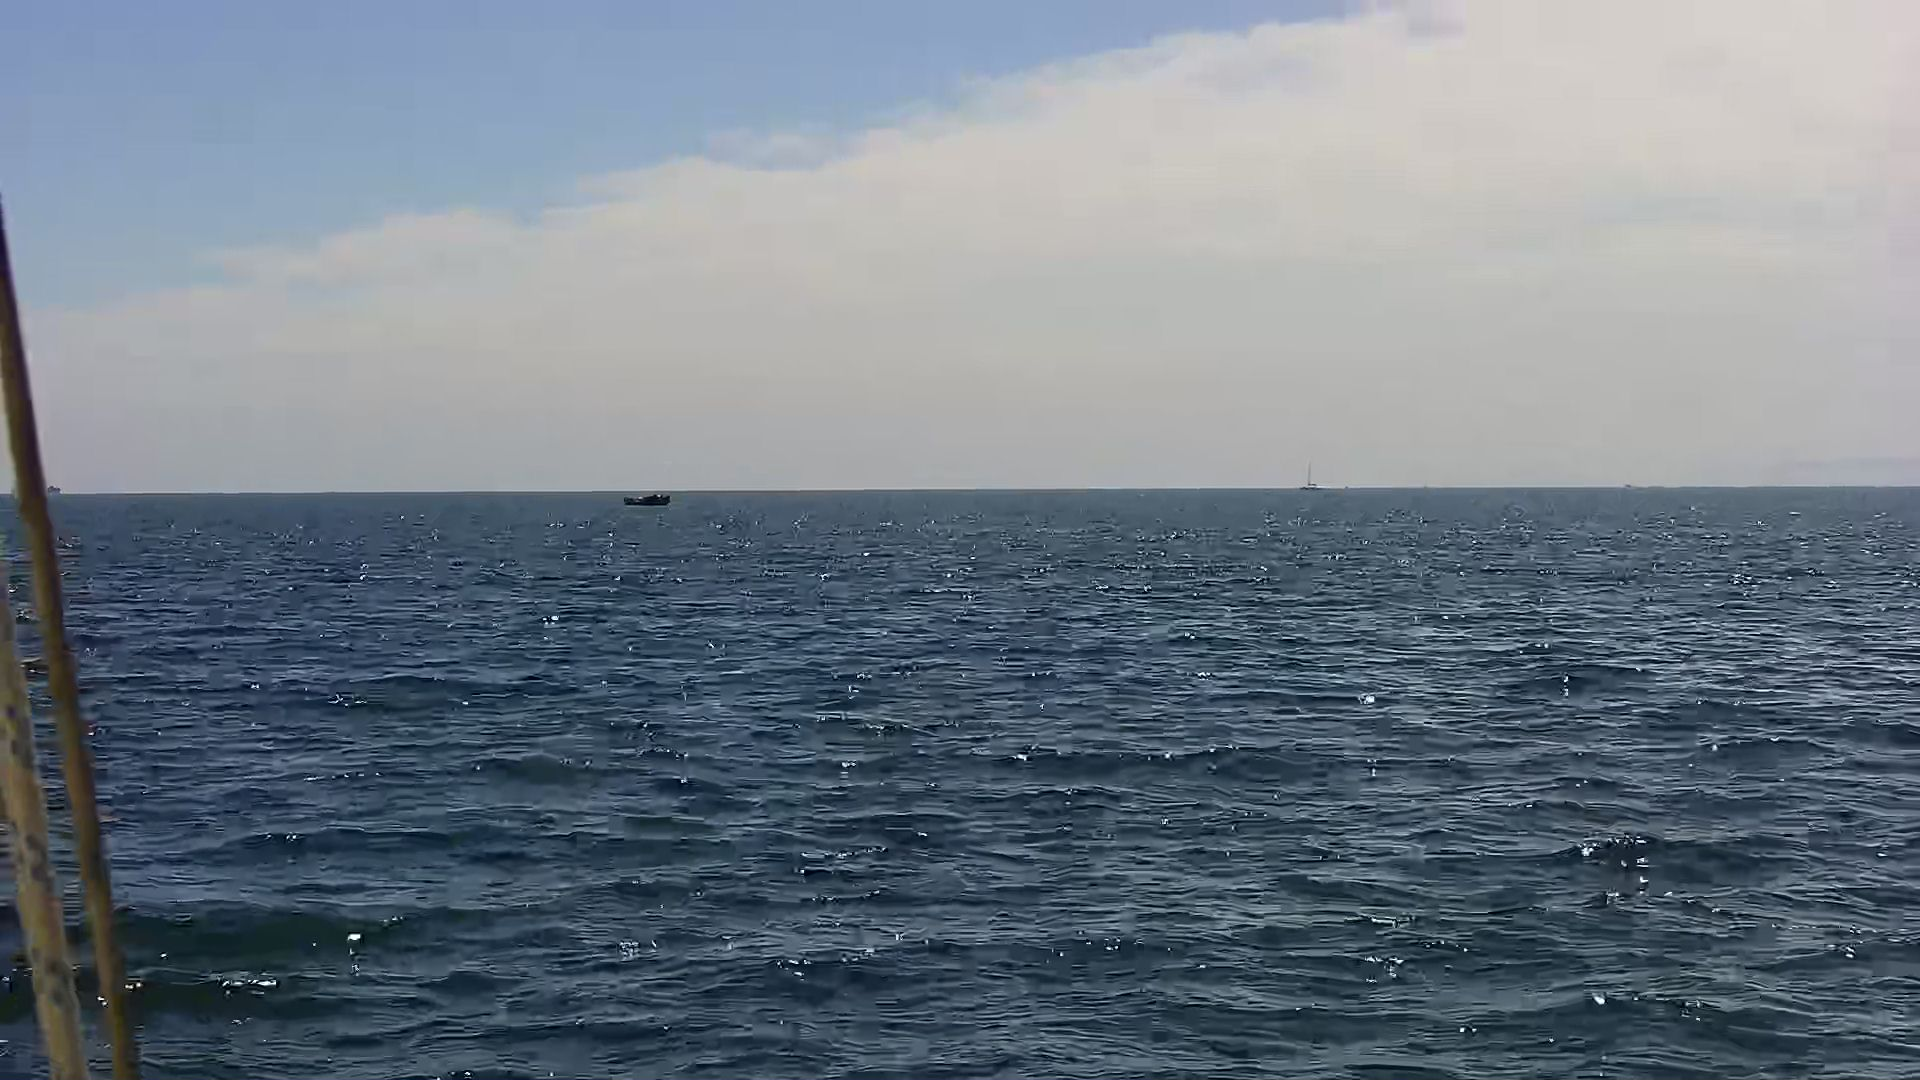boat: (622, 495, 675, 512)
